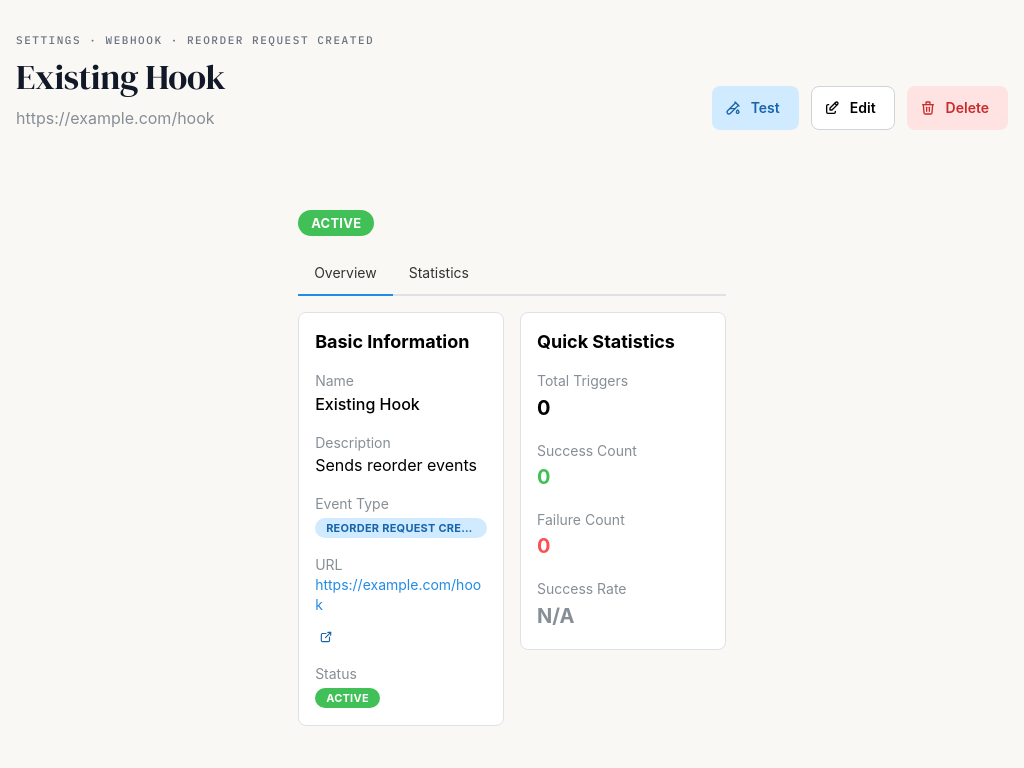
Test case: WebhookDetailPage › surfaces a transient error when the test send fails
Click the button "Test" at (755, 108), box [712,86,799,130]
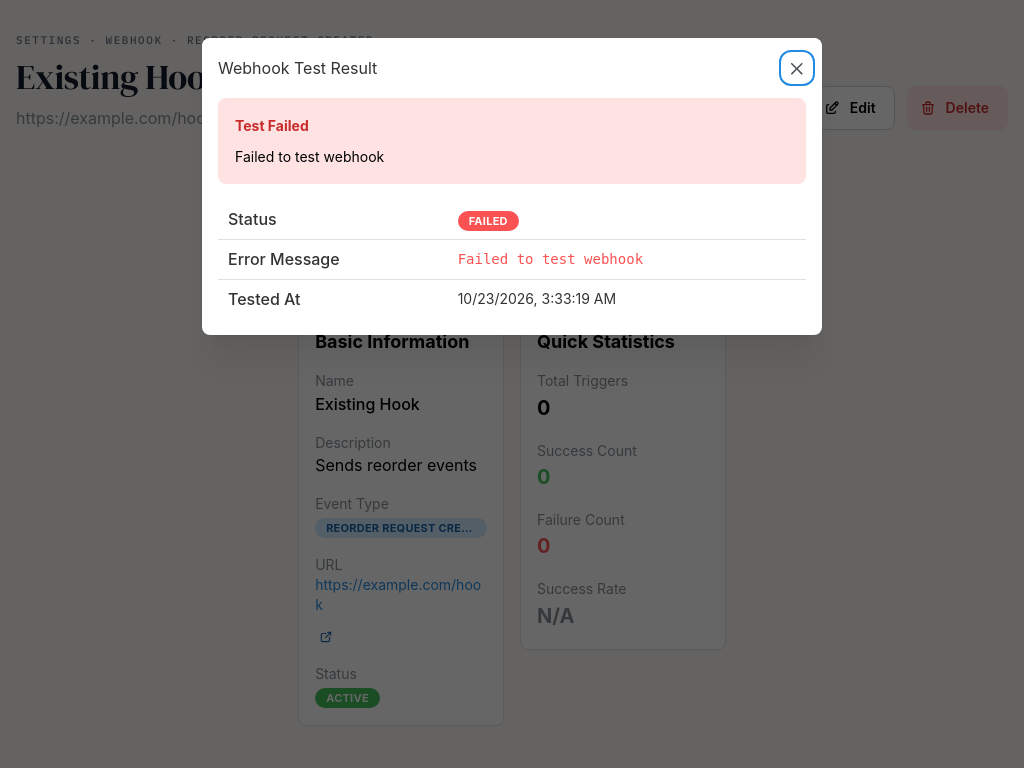
Now the text "Test Failed" is shown, box [235,115,309,137]
Now the text "Failed to test webhook" below "Test Failed" is shown, box [235,148,384,165]
